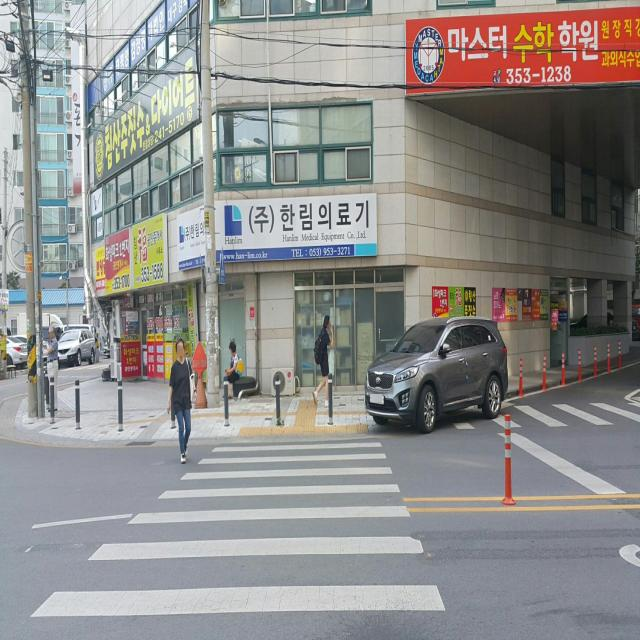횡단보도: (28, 443, 446, 622), (450, 401, 640, 434)
